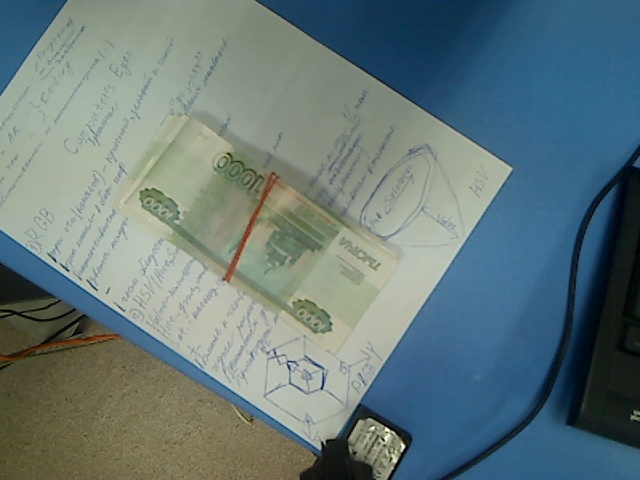banknotes: (110, 115, 406, 356)
